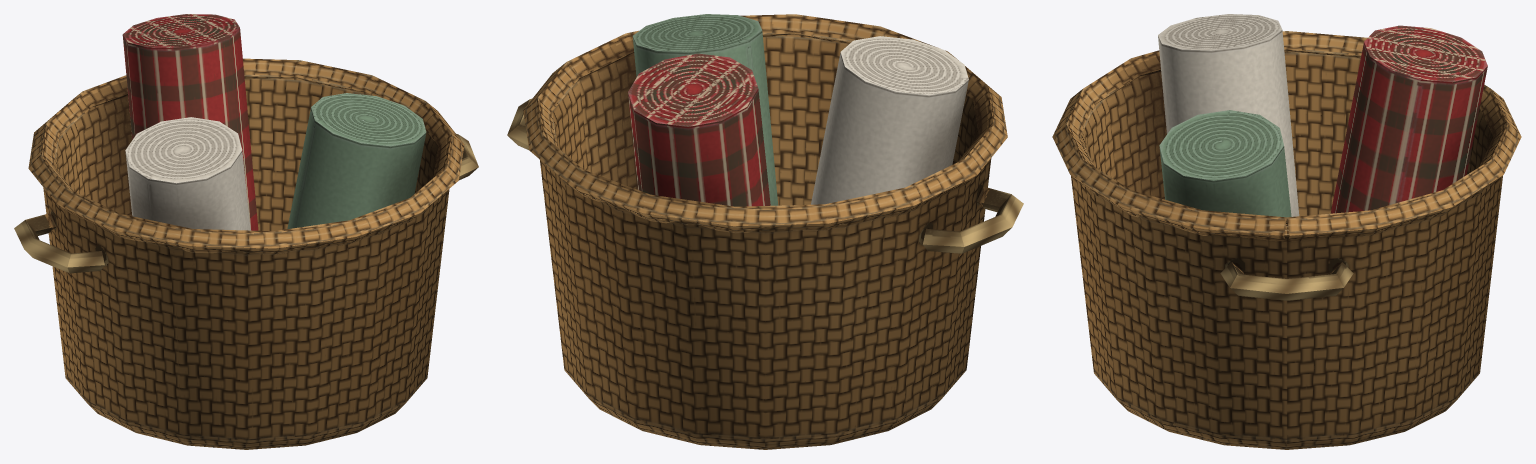
The model's file is Basket_Wicker_01.glb.
3 renders of one model, left to right at view 1: azimuth 30°, elevation 25°; view 2: azimuth 150°, elevation 25°; view 3: azimuth 270°, elevation 25°, orthographic. The views are drawn at different scales.
Parts seen in each view (by area): view 1: Basket_Wicker_01; view 2: Basket_Wicker_01; view 3: Basket_Wicker_01.
Part boxes in pixels (x1,y1,x2,y2): Basket_Wicker_01: (14, 14, 478, 449); Basket_Wicker_01: (507, 14, 1023, 449); Basket_Wicker_01: (1052, 14, 1521, 449).
Size of the model in its own units: 0.4469 by 0.2957 by 0.383.
1 material, 1 textured.
